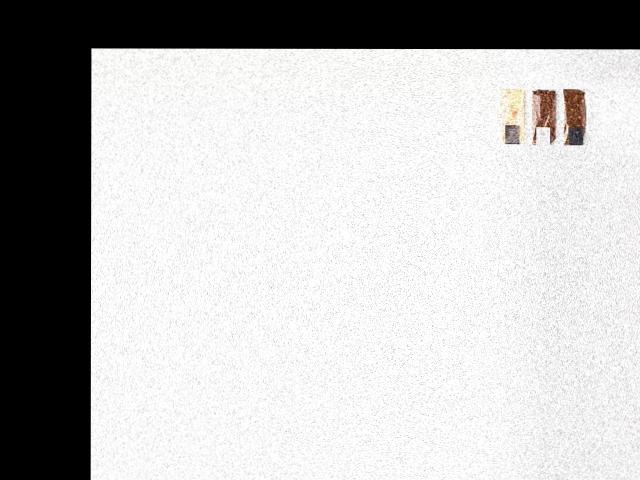chocolate: (564, 86, 590, 145)
